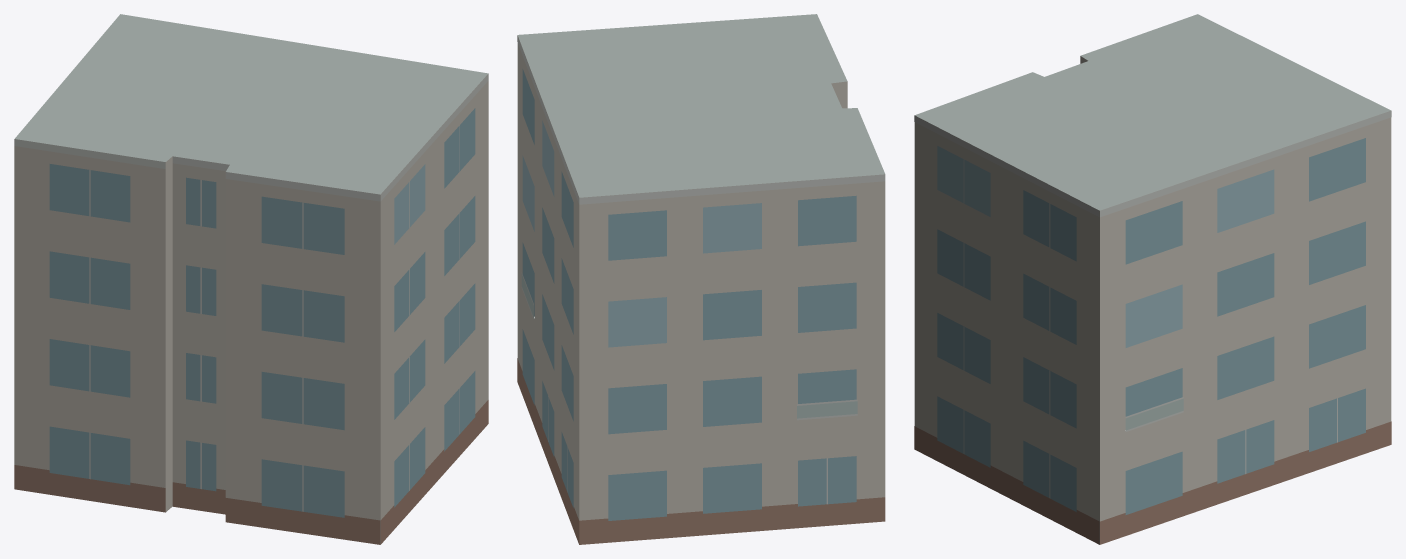
File: survey-upis-32844862.glb
The picture shows the model from 3 angles, left to right: view 1: azimuth 30°, elevation 25°; view 2: azimuth 150°, elevation 25°; view 3: azimuth 270°, elevation 25°; orthographic projection. The views are drawn at different scales.
Visible parts, largest first — view 1: survey-upis-32844862.tmp; view 2: survey-upis-32844862.tmp; view 3: survey-upis-32844862.tmp.
Part boxes in pixels (bbox=[...]): survey-upis-32844862.tmp: bbox=[14, 14, 488, 544]; survey-upis-32844862.tmp: bbox=[517, 14, 885, 544]; survey-upis-32844862.tmp: bbox=[914, 14, 1391, 544].
Bounding box in the file's own units: 15.42 × 12.2 × 15.79.
